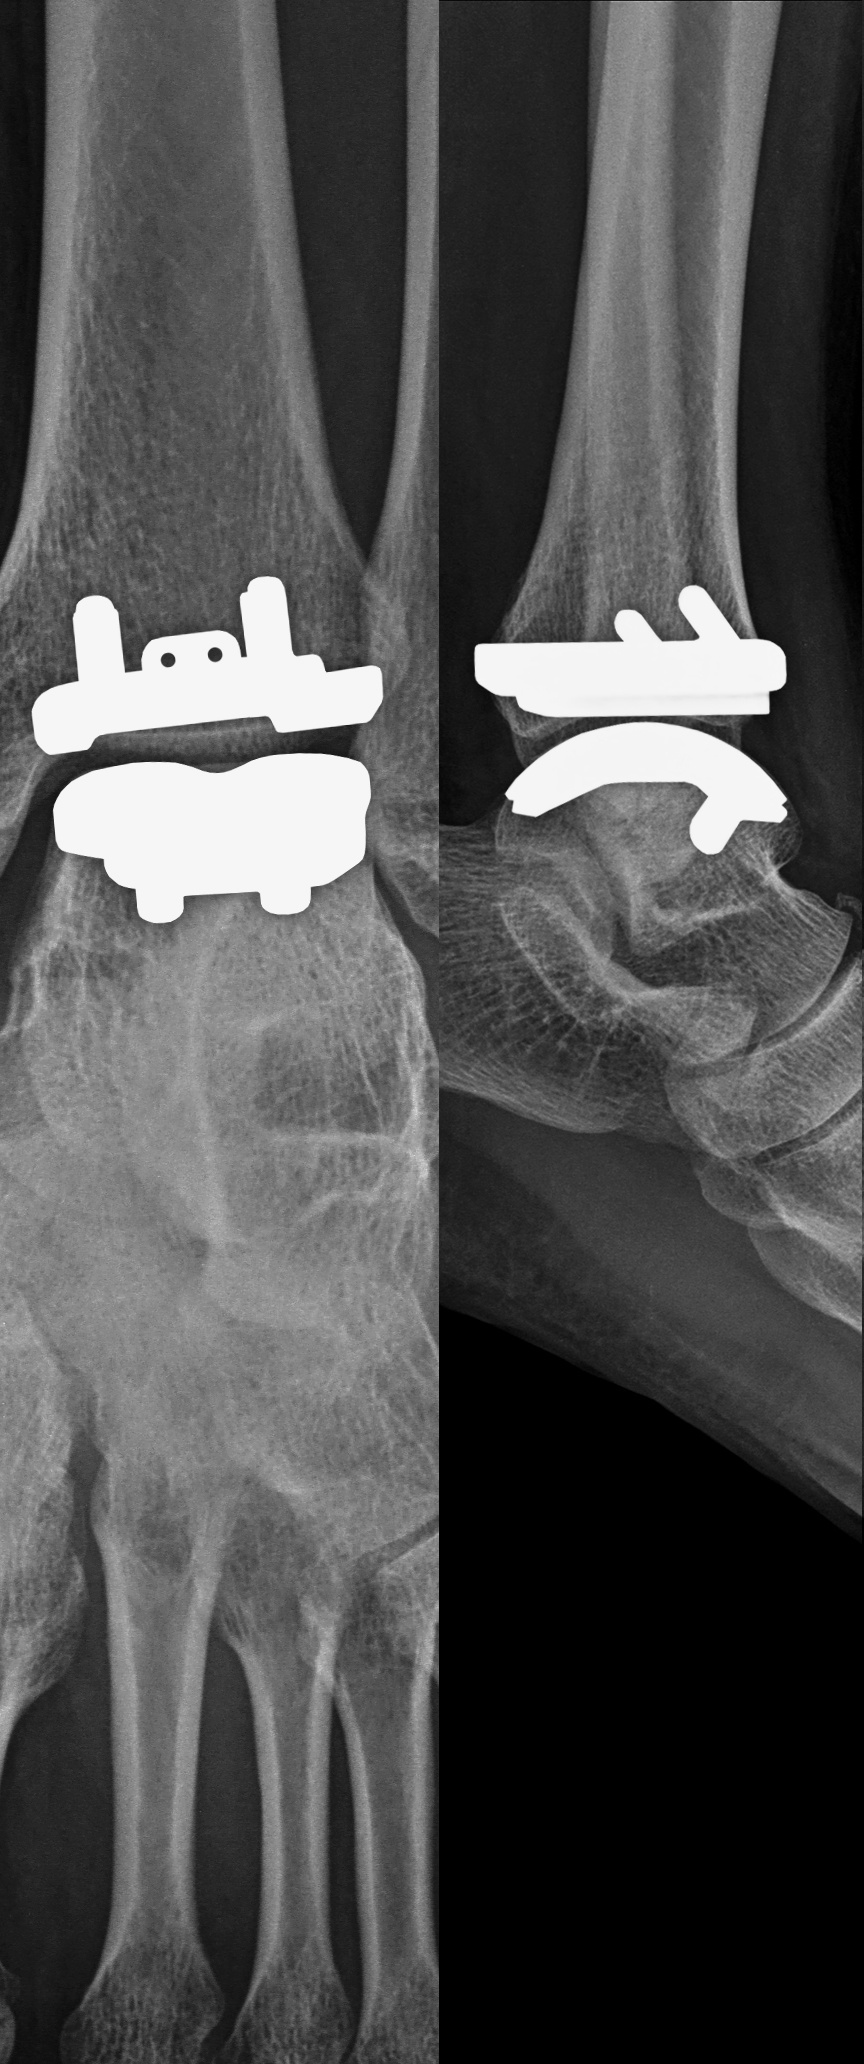Cadence-Integra: (9, 570, 392, 931), (449, 571, 803, 874)
